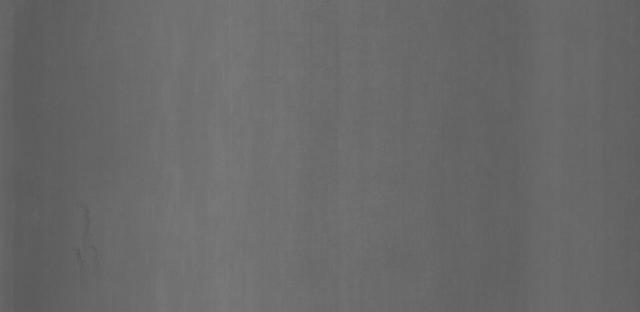water_spot: (71, 187, 108, 276)
